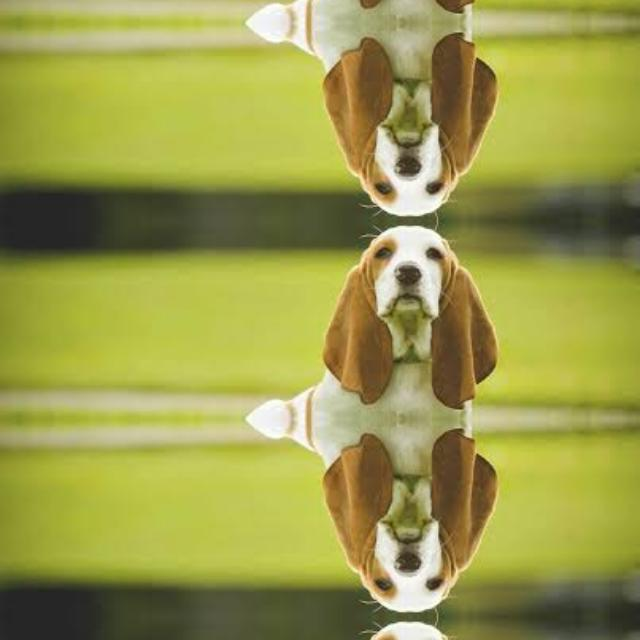dog: (321, 226, 507, 412), (321, 28, 507, 214), (321, 425, 507, 611), (321, 623, 507, 640), (321, 0, 507, 15)
